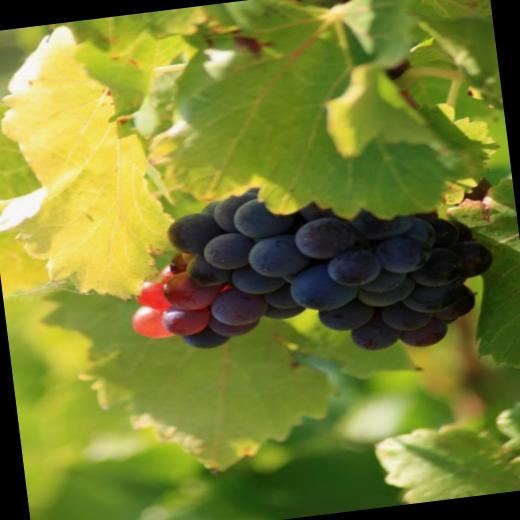Orange: (116, 160, 504, 382)
